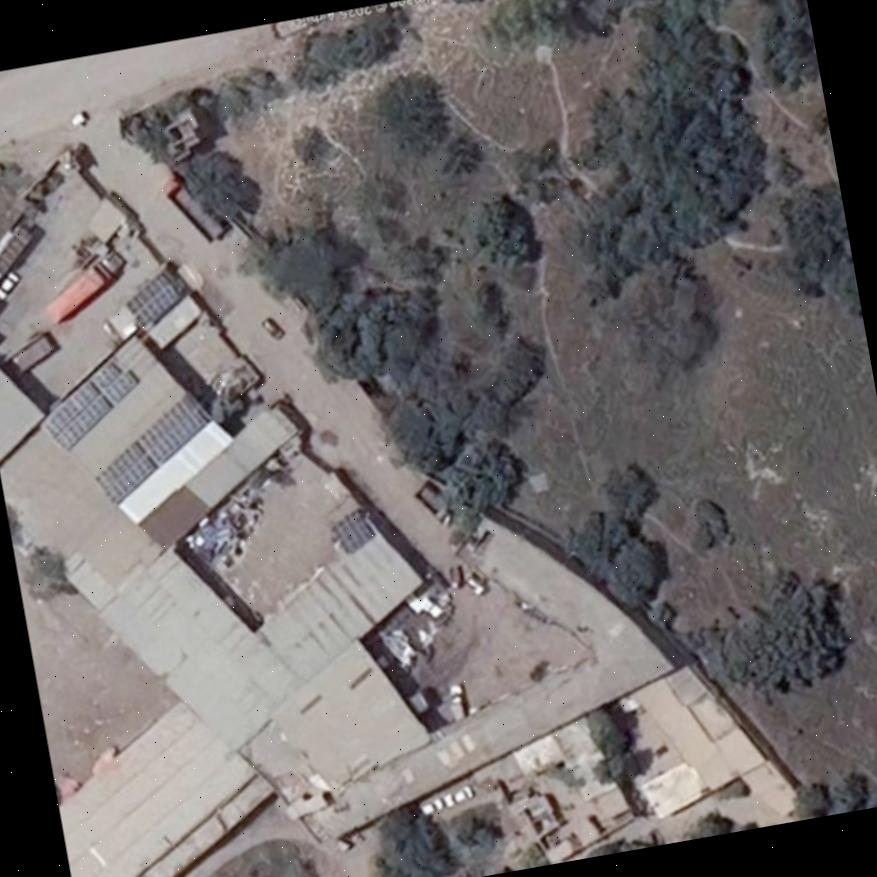Solarpanel: (94, 392, 209, 502), (44, 356, 140, 451), (126, 273, 178, 325), (333, 510, 371, 555)
